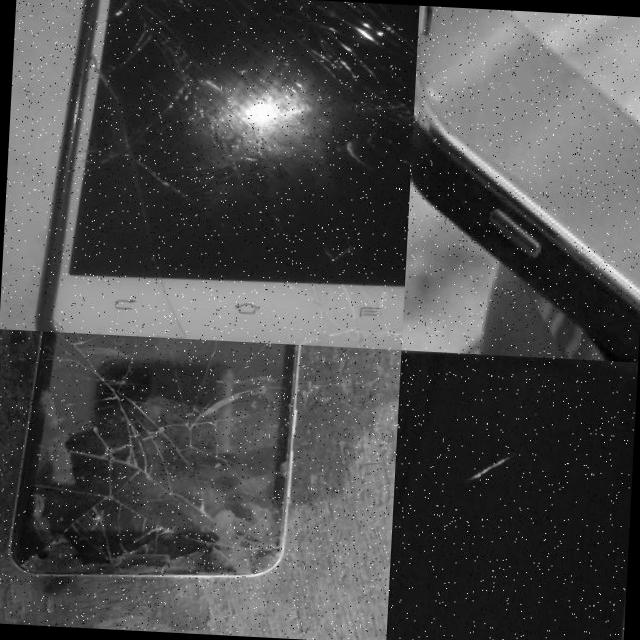scratch: (327, 130, 413, 188), (466, 454, 518, 490)
screen crack: (0, 328, 331, 604), (56, 0, 221, 207), (277, 0, 419, 105), (284, 246, 406, 350)
